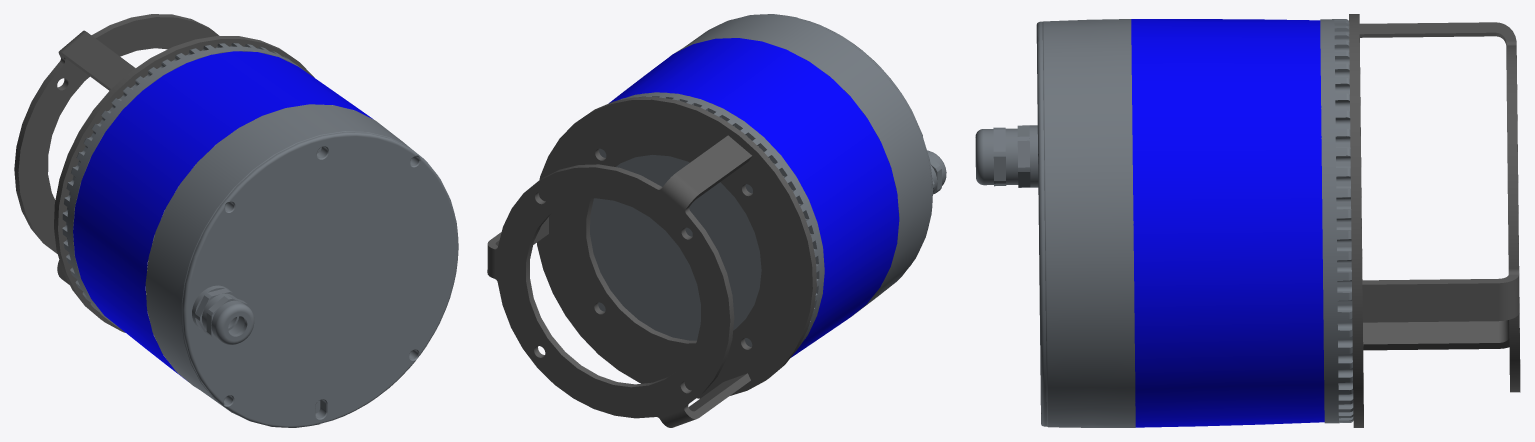
File: sensor_lidar_visual.obj
3 renders of one model, left to right at view 1: azimuth 30°, elevation 25°; view 2: azimuth 150°, elevation 25°; view 3: azimuth 270°, elevation 25°, orthographic. The views are drawn at different scales.
Parts seen in each view (by area): view 1: BTM_13_73_119_6.001, ZHAO_1_1_4_4_2.001, 雷达_雷神M10支架_1.001, 雷达_雷神M10支架_001.001, __V20_1_11_29_2.001, WATERPROOF-CONNECTOR_1.001; view 2: 雷达_雷神M10支架_001.001, ZHAO_1_1_4_4_2.001, 雷达_雷神M10支架_1.001, __V20_1_11_29_2.001, BTM_13_73_119_6.001, WATERPROOF-CONNECTOR_1.001; view 3: ZHAO_1_1_4_4_2.001, BTM_13_73_119_6.001, 雷达_雷神M10支架_1.001, __V20_1_11_29_2.001, 雷达_雷神M10支架_001.001, WATERPROOF-CONNECTOR_1.001.
Boxes of the visible parts, x1=… form: BTM_13_73_119_6.001: x1=145, y1=104, x2=458, y2=427; ZHAO_1_1_4_4_2.001: x1=73, y1=51, x2=373, y2=380; 雷达_雷神M10支架_1.001: x1=14, y1=14, x2=219, y2=284; 雷达_雷神M10支架_001.001: x1=54, y1=36, x2=314, y2=332; __V20_1_11_29_2.001: x1=62, y1=43, x2=304, y2=327; WATERPROOF-CONNECTOR_1.001: x1=195, y1=288, x2=254, y2=344; 雷达_雷神M10支架_001.001: x1=537, y1=97, x2=816, y2=398; ZHAO_1_1_4_4_2.001: x1=608, y1=38, x2=899, y2=357; 雷达_雷神M10支架_1.001: x1=487, y1=135, x2=751, y2=427; __V20_1_11_29_2.001: x1=590, y1=92, x2=824, y2=347; BTM_13_73_119_6.001: x1=674, y1=14, x2=932, y2=316; WATERPROOF-CONNECTOR_1.001: x1=927, y1=150, x2=946, y2=194; ZHAO_1_1_4_4_2.001: x1=1131, y1=19, x2=1324, y2=427; BTM_13_73_119_6.001: x1=1029, y1=19, x2=1135, y2=427; 雷达_雷神M10支架_1.001: x1=1359, y1=22, x2=1520, y2=392; __V20_1_11_29_2.001: x1=1320, y1=19, x2=1353, y2=423; 雷达_雷神M10支架_001.001: x1=1349, y1=14, x2=1363, y2=427; WATERPROOF-CONNECTOR_1.001: x1=975, y1=125, x2=1030, y2=187.
Size of the model in its own units: 0.103 by 0.1031 by 0.1355.
